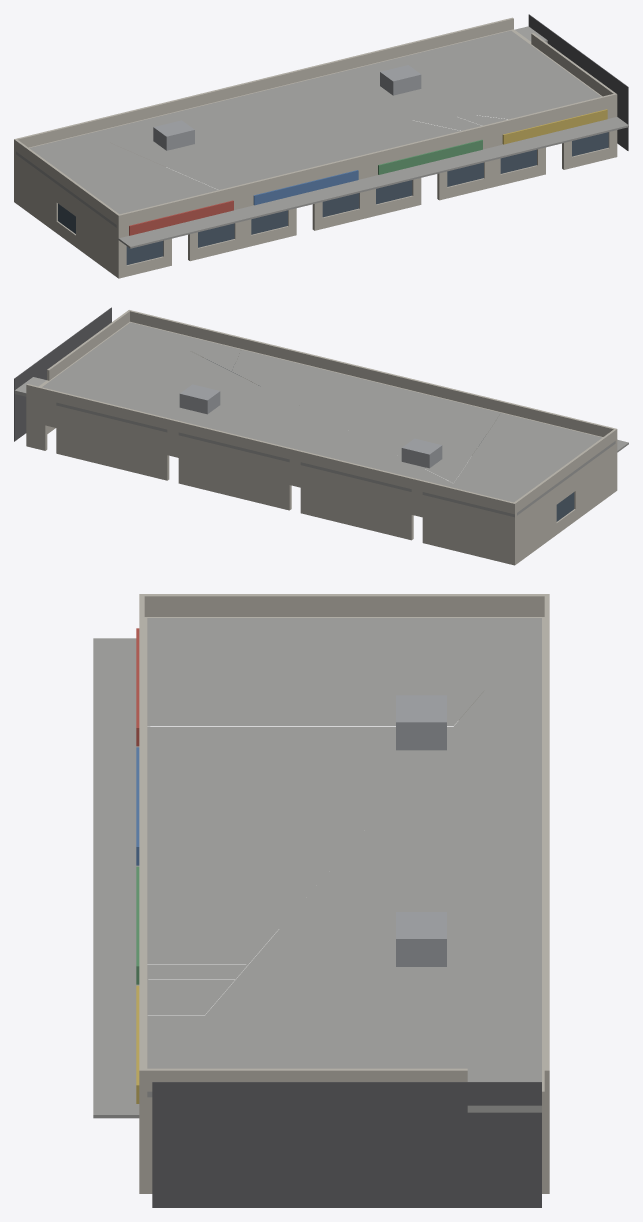
File: strip-mall.zfix-v14.lod1.glb
3 views of the same model, one above another, from view 1: azimuth 30°, elevation 25°; view 2: azimuth 150°, elevation 25°; view 3: azimuth 270°, elevation 25° (orthographic). The views are drawn at different scales.
Parts seen in each view (by area): view 1: strip-mall; view 2: strip-mall; view 3: strip-mall.
Part boxes in pixels (bbox=[...]): strip-mall: bbox=[14, 14, 628, 278]; strip-mall: bbox=[14, 307, 628, 565]; strip-mall: bbox=[93, 594, 549, 1207].
Size of the model in its own units: 45.3 by 5.6 by 17.8.
